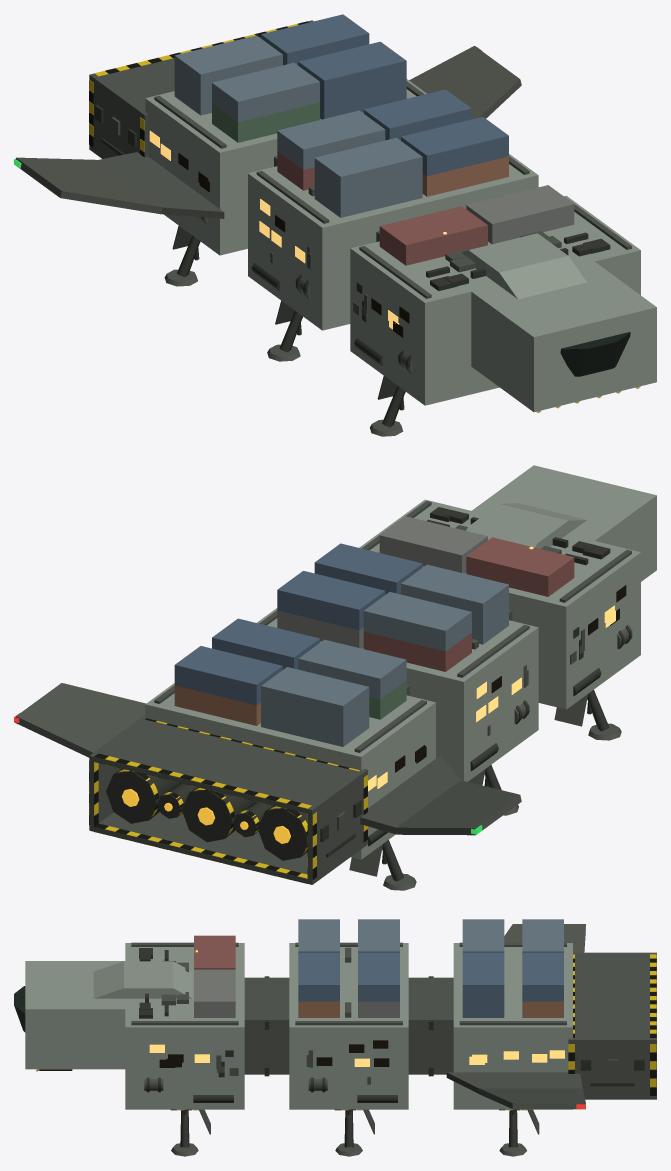
Rendered from freighter-l(3).glb.
3 views of the same model, one above another, from view 1: azimuth 30°, elevation 25°; view 2: azimuth 150°, elevation 25°; view 3: azimuth 270°, elevation 25° (orthographic). The views are drawn at different scales.
Visible parts, largest first — view 1: hullNose, hullMain, hullSection1, hullSection2, canopyFairing, cargoContainerUpper1_1L, cargoContainerUpper2_1L, wingOuterLeft, cargoContainer0_0L, wingOuterRight, cargoContainerUpper2_1R, cargoContainerUpper1_1R (+15 smaller); view 2: hullMain, shroudPlateTop, hullSection1, hullSection2, hullNose, engineHousing (×5), wingOuterRight, shroudPlateBottom, cargoContainerUpper1_0L, cargoContainerUpper2_0L, cargoContainer0_0L, wingOuterLeft (+17 smaller); view 3: hullMain, hullSection1, hullNose, hullSection2, shroudPlateTop, gantry0, gantry1, shroudPlateRight, canopyFairing, wingInnerRight, cargoContainerUpper2_1R, cargoContainer0_0R (+18 smaller).
Part boxes in pixels (bbox=[...]): hullNose: bbox=[466, 257, 656, 412]; hullMain: bbox=[350, 195, 640, 405]; hullSection1: bbox=[248, 154, 538, 330]; hullSection2: bbox=[145, 79, 426, 255]; canopyFairing: bbox=[461, 233, 586, 299]; cargoContainerUpper1_1L: bbox=[314, 138, 422, 197]; cargoContainerUpper2_1L: bbox=[212, 62, 319, 122]; wingOuterLeft: bbox=[14, 157, 162, 214]; cargoContainer0_0L: bbox=[379, 206, 487, 265]; wingOuterRight: bbox=[409, 46, 521, 119]; cargoContainerUpper2_1R: bbox=[298, 41, 406, 101]; cargoContainerUpper1_1R: bbox=[401, 116, 508, 176]; hullMain: bbox=[359, 499, 640, 709]; shroudPlateTop: bbox=[89, 715, 367, 814]; hullSection1: bbox=[257, 608, 538, 781]; hullSection2: bbox=[145, 683, 435, 859]; hullNose: bbox=[468, 465, 656, 581]; engineHousing (×5): bbox=[106, 769, 307, 860]; wingOuterRight: bbox=[14, 683, 145, 757]; shroudPlateBottom: bbox=[89, 812, 367, 884]; cargoContainerUpper1_0L: bbox=[363, 592, 471, 651]; cargoContainerUpper2_0L: bbox=[261, 667, 369, 726]; cargoContainer0_0L: bbox=[466, 537, 574, 596]; wingOuterLeft: bbox=[396, 780, 521, 835]; hullMain: bbox=[125, 943, 244, 1109]; hullSection1: bbox=[289, 943, 408, 1109]; hullNose: bbox=[25, 961, 133, 1069]; hullSection2: bbox=[453, 943, 572, 1109]; shroudPlateTop: bbox=[568, 952, 656, 1043]; gantry0: bbox=[244, 977, 289, 1074]; gantry1: bbox=[408, 977, 453, 1074]; shroudPlateRight: bbox=[568, 1043, 656, 1095]; canopyFairing: bbox=[93, 961, 192, 998]; wingInnerRight: bbox=[446, 1072, 582, 1093]; cargoContainerUpper2_1R: bbox=[462, 953, 504, 1001]; cargoContainer0_0R: bbox=[194, 969, 235, 1017].
Size of the model in its own units: 7.06 by 2.84 by 10.62.
